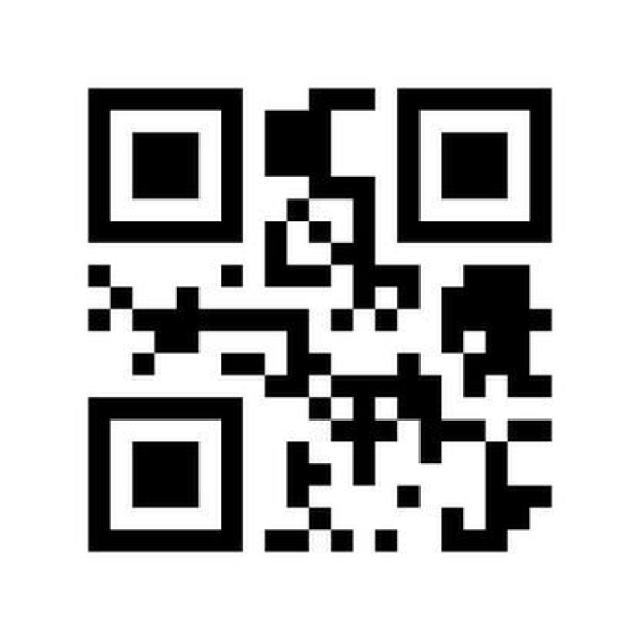QRCode: (73, 72, 574, 564)
